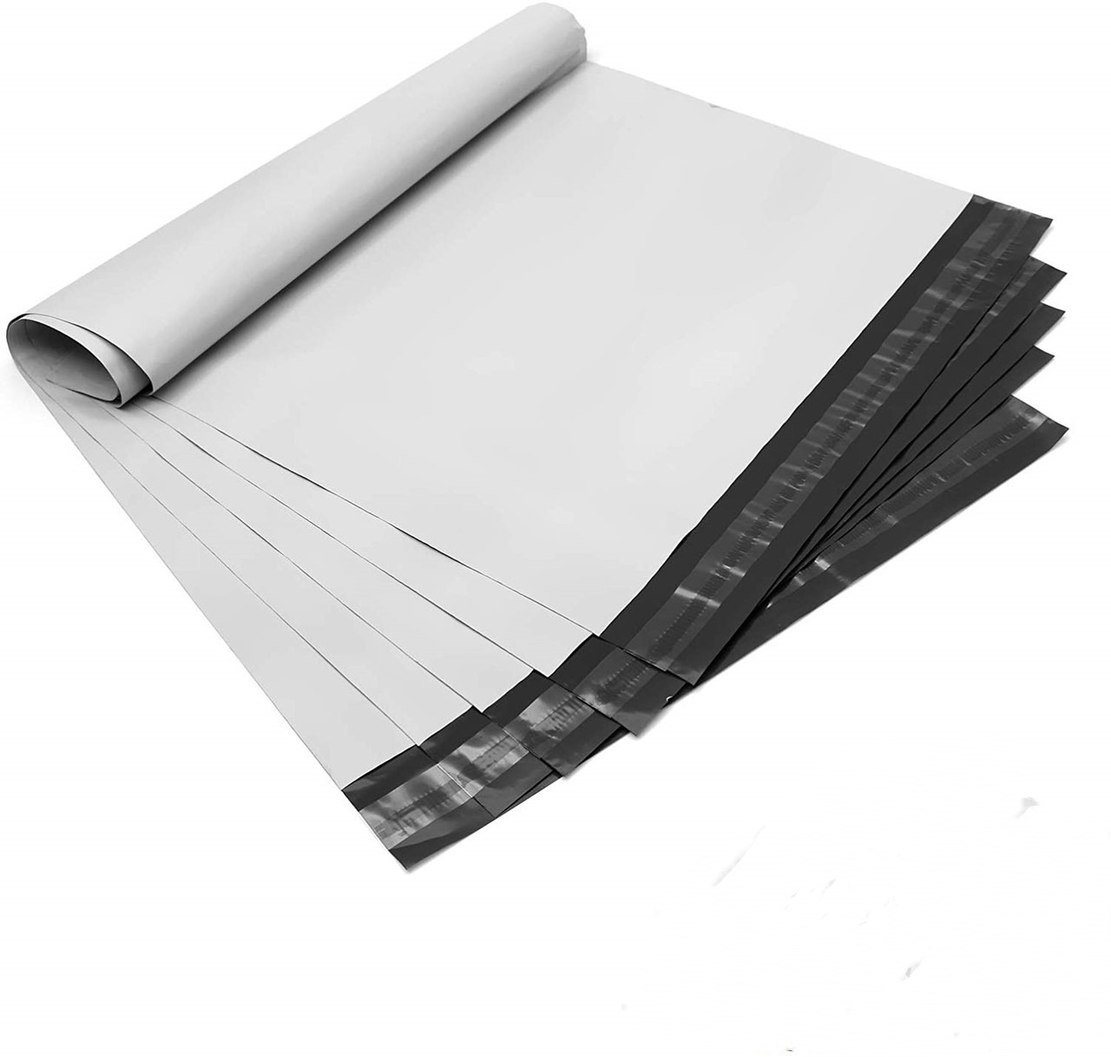塑料袋: (9, 5, 1063, 850)
